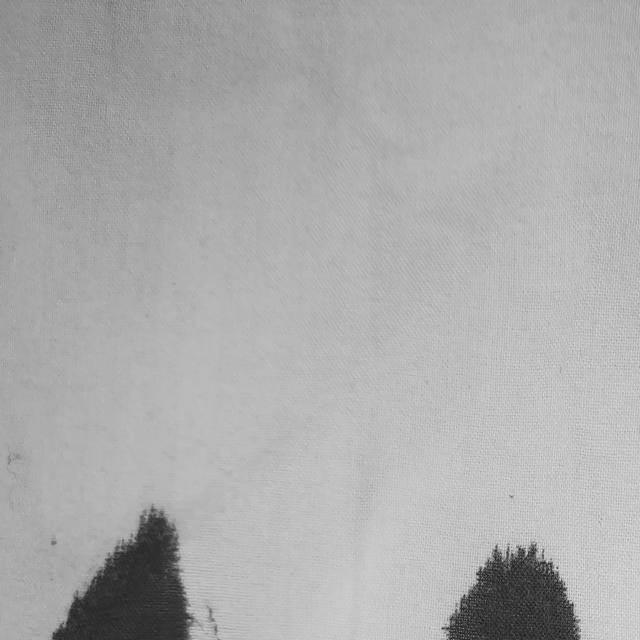Stain: (52, 507, 190, 640), (445, 544, 581, 640)
